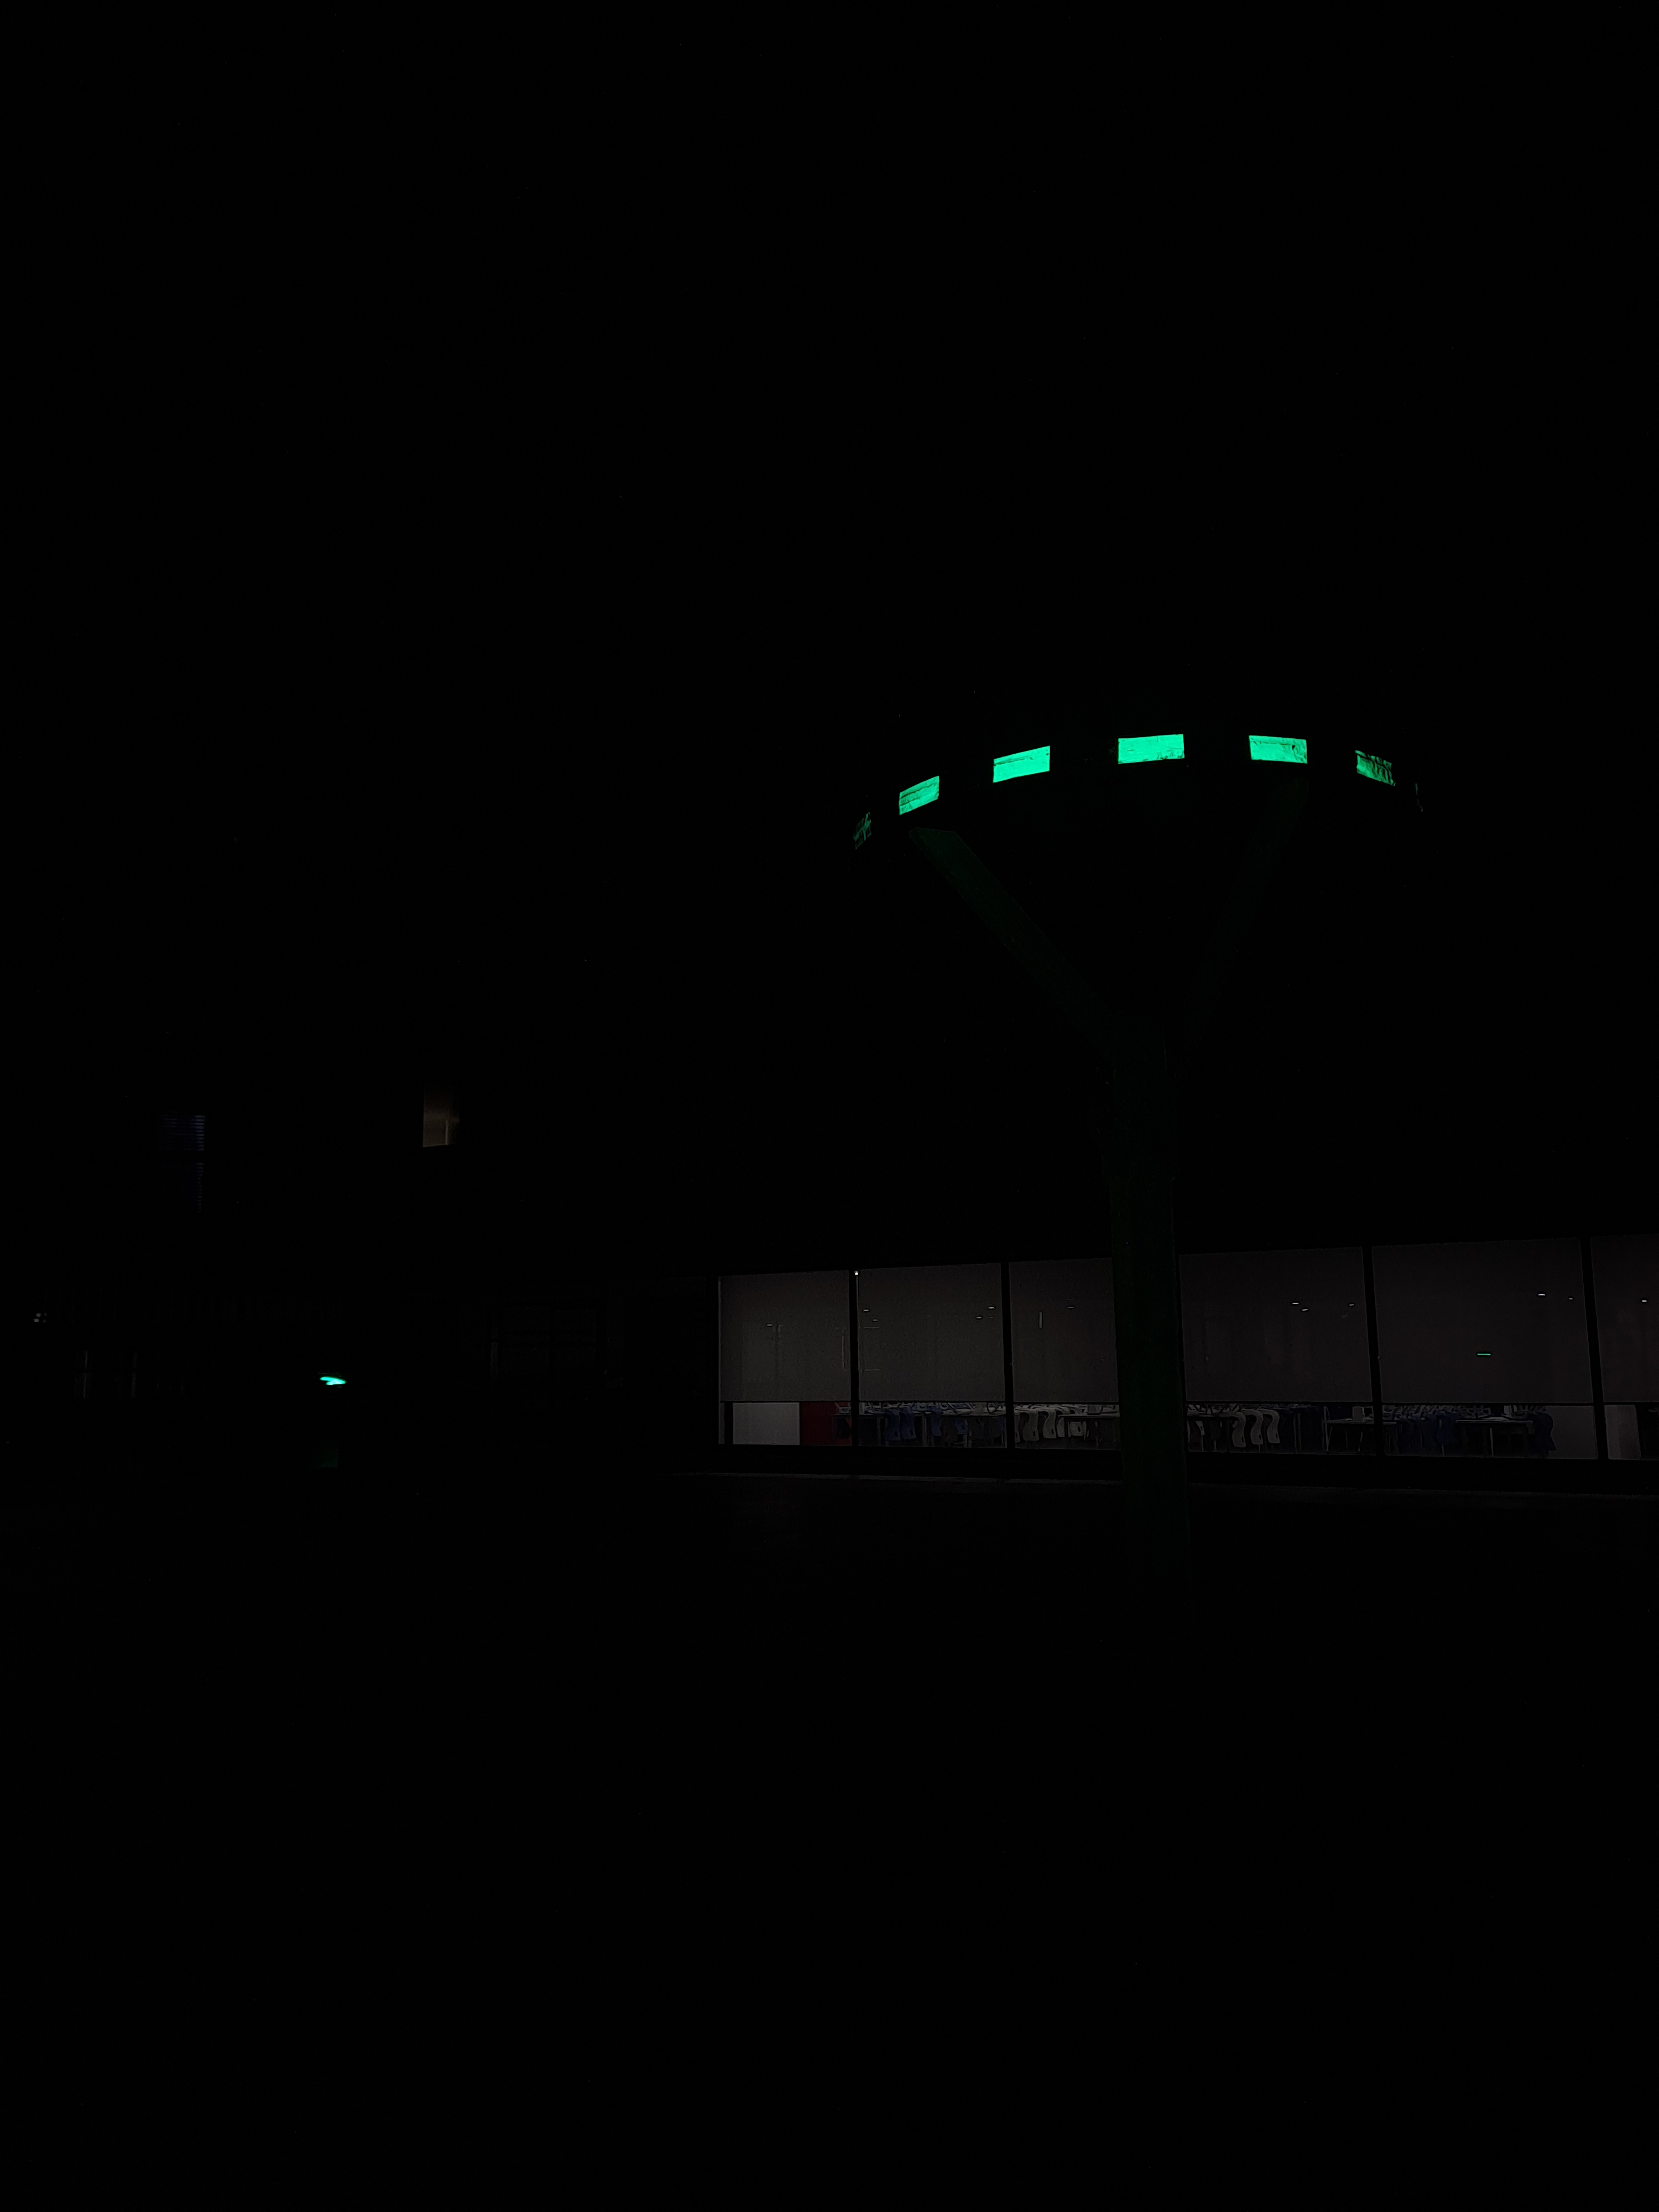hoop: (882, 728, 1406, 815)
